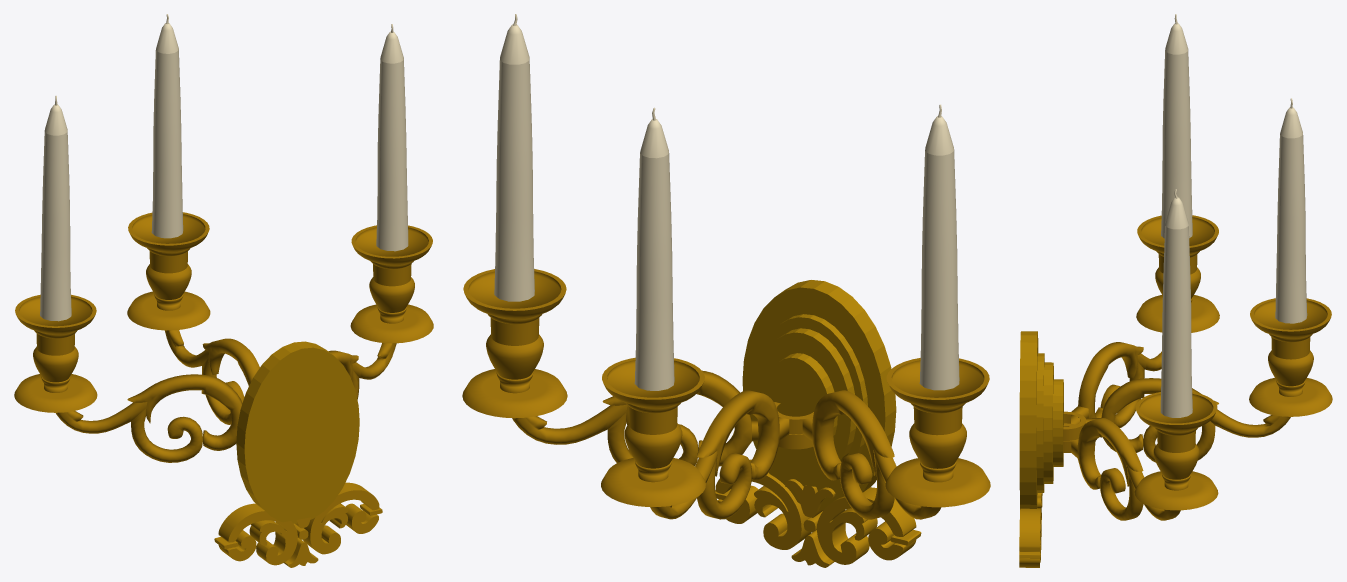
Rendered from Torch.fbx.
The picture shows the model from 3 angles, left to right: view 1: azimuth 30°, elevation 25°; view 2: azimuth 150°, elevation 25°; view 3: azimuth 270°, elevation 25°; orthographic projection. The views are drawn at different scales.
Parts seen in each view (by area): view 1: świczeki, świecznik; view 2: świczeki, świecznik; view 3: świczeki, świecznik.
Boxes of the visible parts, box(x1,y1,x2,y2) form: świczeki: box(14, 212, 433, 567); świecznik: box(40, 14, 408, 321); świczeki: box(462, 269, 990, 567); świecznik: box(494, 14, 959, 390); świczeki: box(1019, 215, 1332, 567); świecznik: box(1160, 14, 1307, 417).
Size of the model in its own units: 114 by 122 by 75.43.
